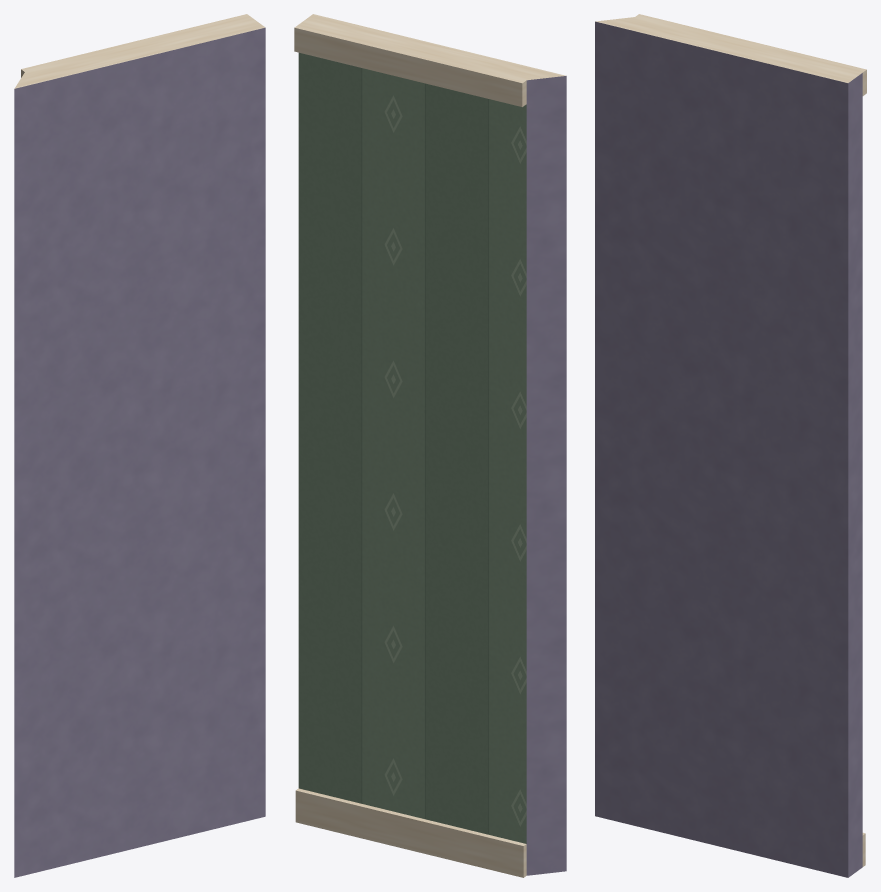
File: SM_Wall_1x3_CornerL.fbx
3 renders of one model, left to right at view 1: azimuth 30°, elevation 25°; view 2: azimuth 150°, elevation 25°; view 3: azimuth 330°, elevation 25°, orthographic.
Parts seen in each view (by area): view 1: SM_Wall_1x3_CornerL; view 2: SM_Wall_1x3_CornerL; view 3: SM_Wall_1x3_CornerL.
Boxes of the visible parts, box(x1,y1,x2,y2) form: SM_Wall_1x3_CornerL: box(14, 14, 265, 877); SM_Wall_1x3_CornerL: box(294, 14, 566, 877); SM_Wall_1x3_CornerL: box(595, 14, 866, 877).
Size of what is drawn, in the model's own units: 1 by 3 by 0.128.
Materials: 3 (3 with a texture image).
